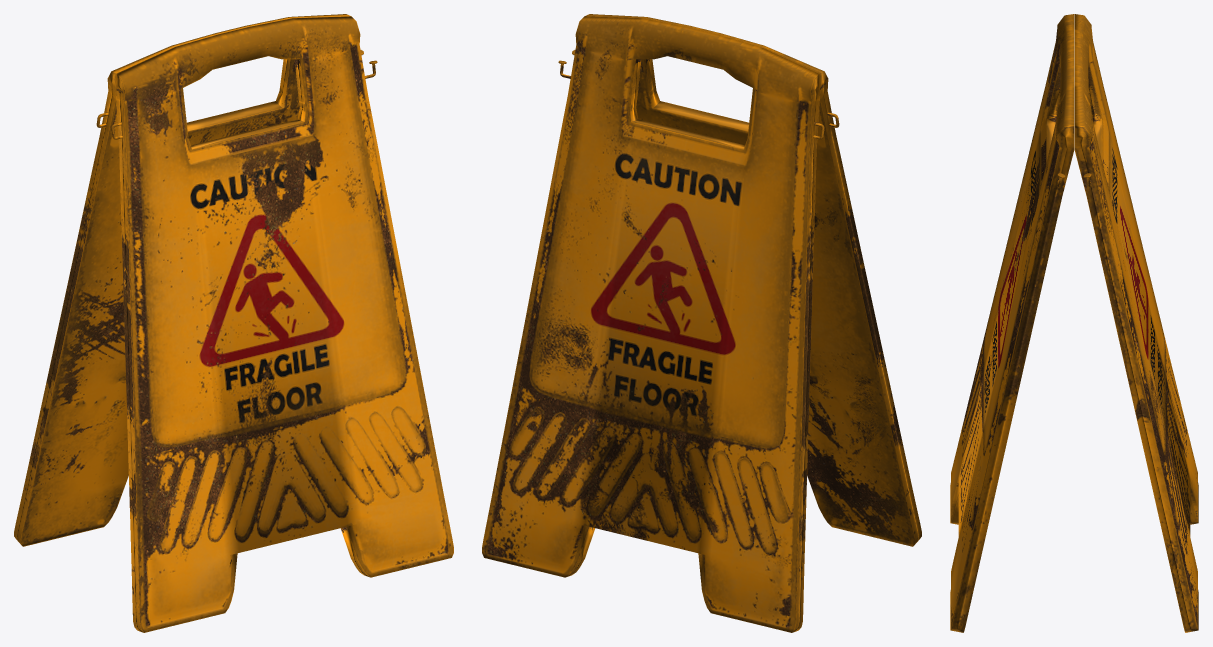
File: warning-1.glb
3 renders of one model, left to right at view 1: azimuth 30°, elevation 25°; view 2: azimuth 150°, elevation 25°; view 3: azimuth 270°, elevation 25°, orthographic. The views are drawn at different scales.
Parts seen in each view (by area): view 1: Warning_Sign_Board_Low_Poly; view 2: Warning_Sign_Board_Low_Poly; view 3: Warning_Sign_Board_Low_Poly.
Part boxes in pixels (left/top/right/bottom): Warning_Sign_Board_Low_Poly: left=14, top=14, right=453, bottom=632; Warning_Sign_Board_Low_Poly: left=482, top=14, right=921, bottom=632; Warning_Sign_Board_Low_Poly: left=950, top=14, right=1198, bottom=632.
Bounding box in the file's own units: 2.64 × 4.17 × 1.86.
Materials: 1 (1 with a texture image).
